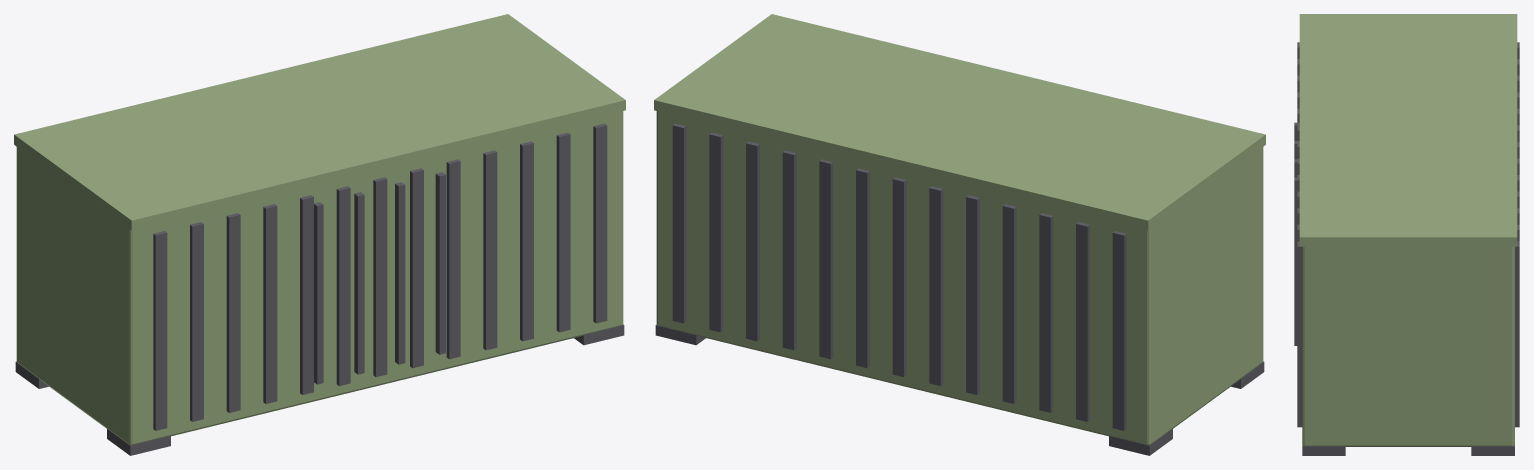
Rendered from bt-hw-cont-g.glb.
3 renders of one model, left to right at view 1: azimuth 30°, elevation 25°; view 2: azimuth 150°, elevation 25°; view 3: azimuth 270°, elevation 25°, orthographic. The views are drawn at different scales.
Parts seen in each view (by area): view 1: bt-hw-cont-g_body, bt-hw-cont-g_toprail, bt-hw-cont-g_rib6_1, bt-hw-cont-g_rib5_1, bt-hw-cont-g_rib12_1, bt-hw-cont-g_rib3_1, bt-hw-cont-g_rib11_1, bt-hw-cont-g_rib0_1, bt-hw-cont-g_rib8_1, bt-hw-cont-g_rib9_1, bt-hw-cont-g_rib2_1, bt-hw-cont-g_rib4_1 (+8 smaller); view 2: bt-hw-cont-g_body, bt-hw-cont-g_toprail, bt-hw-cont-g_rib6_-1, bt-hw-cont-g_rib5_-1, bt-hw-cont-g_rib12_-1, bt-hw-cont-g_rib3_-1, bt-hw-cont-g_rib11_-1, bt-hw-cont-g_rib0_-1, bt-hw-cont-g_rib8_-1, bt-hw-cont-g_rib9_-1, bt-hw-cont-g_rib2_-1, bt-hw-cont-g_rib4_-1 (+4 smaller); view 3: bt-hw-cont-g_toprail, bt-hw-cont-g_body, bt-hw-cont-g_rib12_1, bt-hw-cont-g_rib12_-1, bt-hw-cont-g_dbar0.75, bt-hw-cont-g_foot1_-1, bt-hw-cont-g_foot1_1.
Part boxes in pixels (bbox=[...]): bt-hw-cont-g_body: bbox=[16, 111, 623, 444]; bt-hw-cont-g_toprail: bbox=[14, 14, 625, 230]; bt-hw-cont-g_rib6_1: bbox=[373, 177, 387, 376]; bt-hw-cont-g_rib5_1: bbox=[336, 186, 350, 386]; bt-hw-cont-g_rib12_1: bbox=[593, 123, 607, 323]; bt-hw-cont-g_rib3_1: bbox=[263, 204, 277, 403]; bt-hw-cont-g_rib11_1: bbox=[556, 132, 570, 332]; bt-hw-cont-g_rib0_1: bbox=[153, 231, 167, 430]; bt-hw-cont-g_rib8_1: bbox=[446, 159, 460, 359]; bt-hw-cont-g_rib9_1: bbox=[483, 150, 497, 350]; bt-hw-cont-g_rib2_1: bbox=[226, 213, 240, 412]; bt-hw-cont-g_rib4_1: bbox=[300, 195, 313, 394]; bt-hw-cont-g_body: bbox=[656, 111, 1263, 444]; bt-hw-cont-g_toprail: bbox=[654, 14, 1265, 230]; bt-hw-cont-g_rib6_-1: bbox=[892, 177, 906, 376]; bt-hw-cont-g_rib5_-1: bbox=[929, 186, 943, 386]; bt-hw-cont-g_rib12_-1: bbox=[672, 123, 686, 323]; bt-hw-cont-g_rib3_-1: bbox=[1002, 204, 1016, 403]; bt-hw-cont-g_rib11_-1: bbox=[709, 132, 723, 332]; bt-hw-cont-g_rib0_-1: bbox=[1112, 231, 1126, 430]; bt-hw-cont-g_rib8_-1: bbox=[819, 159, 833, 359]; bt-hw-cont-g_rib9_-1: bbox=[782, 150, 796, 350]; bt-hw-cont-g_rib2_-1: bbox=[1039, 213, 1053, 412]; bt-hw-cont-g_rib4_-1: bbox=[966, 195, 979, 394]; bt-hw-cont-g_toprail: bbox=[1299, 14, 1517, 246]; bt-hw-cont-g_body: bbox=[1302, 246, 1514, 446]; bt-hw-cont-g_rib12_1: bbox=[1297, 241, 1302, 427]; bt-hw-cont-g_rib12_-1: bbox=[1515, 241, 1519, 427]; bt-hw-cont-g_dbar0.75: bbox=[1294, 177, 1297, 345]; bt-hw-cont-g_foot1_-1: bbox=[1471, 445, 1514, 455]; bt-hw-cont-g_foot1_1: bbox=[1302, 445, 1345, 455].
Bounding box in the file's own units: 6.06 × 2.77 × 2.58.
